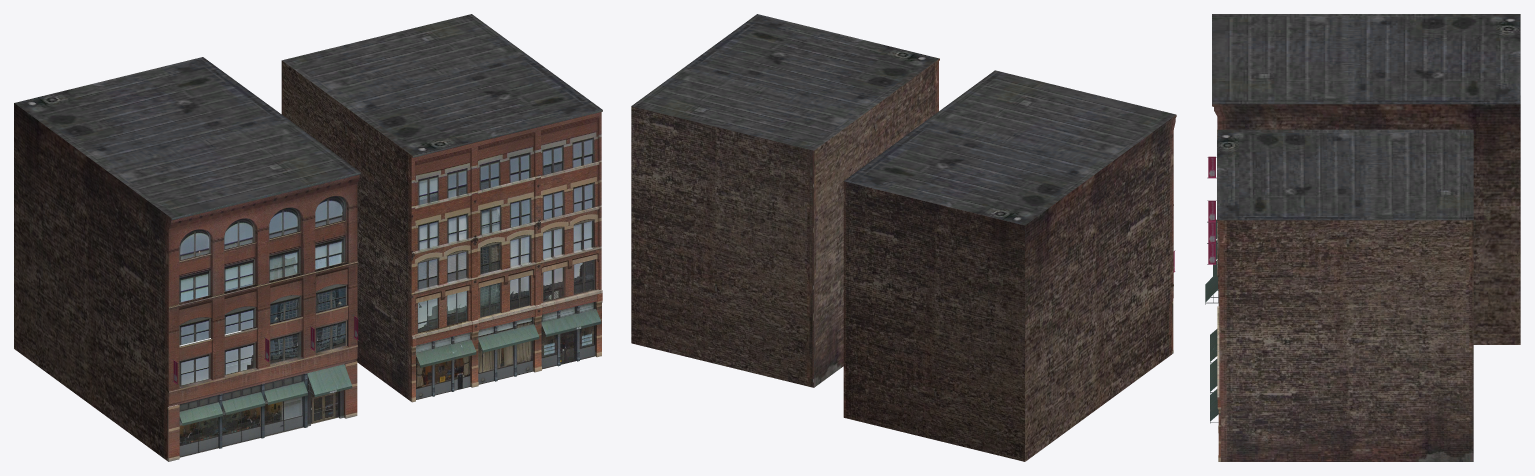
3 views of the same model, side by side, from view 1: azimuth 30°, elevation 25°; view 2: azimuth 150°, elevation 25°; view 3: azimuth 270°, elevation 25° (orthographic). The views are drawn at different scales.
Parts seen in each view (by area): view 1: Building 2_2, Building 1_3; view 2: Building 2_2, Building 1_3; view 3: Building 1_3, Building 2_2.
Boxes of the visible parts, x1,y1,x2,y2 form: Building 2_2: (14,57,360,461); Building 1_3: (281,14,602,402); Building 2_2: (843,70,1176,461); Building 1_3: (631,14,939,387); Building 1_3: (1210,129,1473,461); Building 2_2: (1205,14,1520,344).
Bounding box in the file's own units: 176 × 95.73 × 113.
2 materials, 2 textured.
